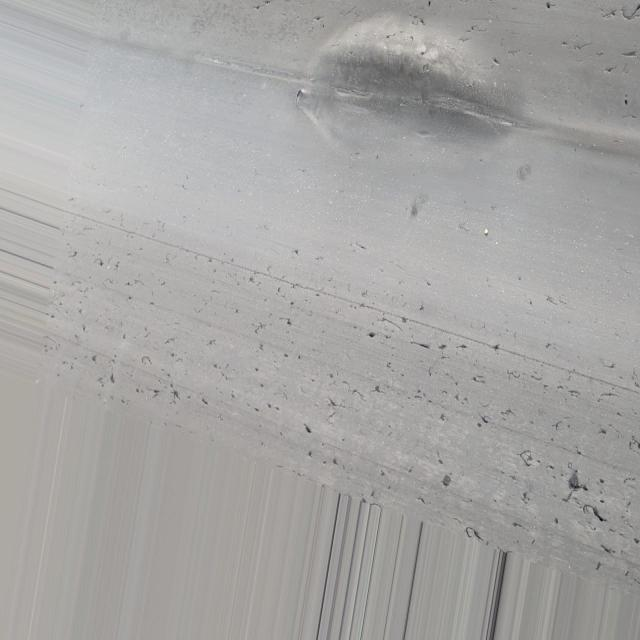impact damage: (301, 6, 528, 164)
